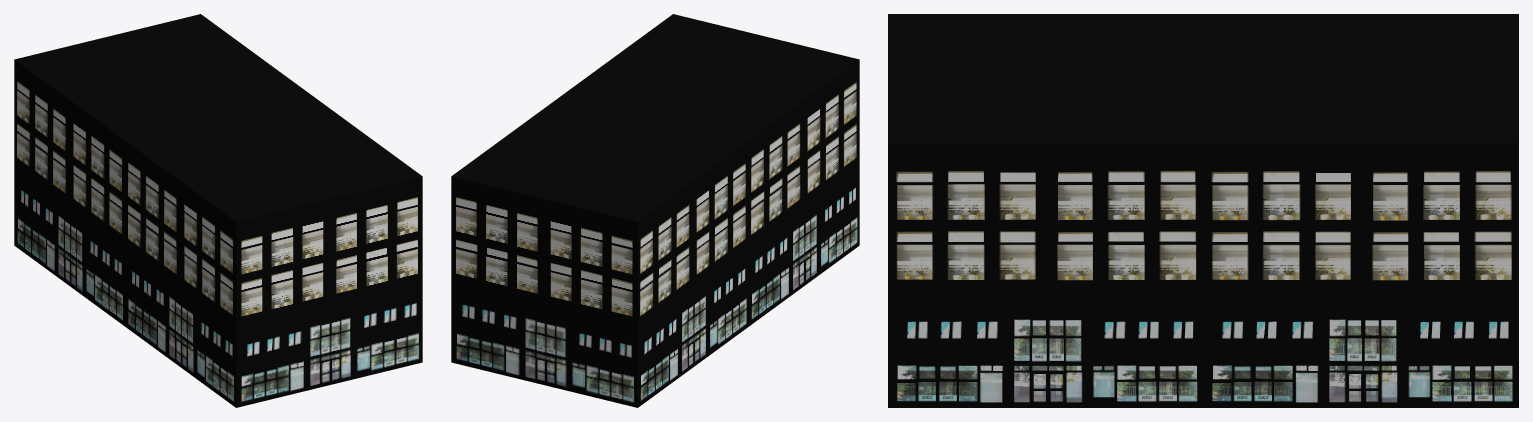
The model's file is building7.FBX.
3 views of the same model, side by side, from view 1: azimuth 30°, elevation 25°; view 2: azimuth 150°, elevation 25°; view 3: azimuth 270°, elevation 25° (orthographic). The views are drawn at different scales.
Visible parts, largest first — view 1: Box001; view 2: Box001; view 3: Box001.
Boxes of the visible parts, x1=… form: Box001: x1=14, y1=14, x2=422, y2=407; Box001: x1=451, y1=14, x2=859, y2=407; Box001: x1=888, y1=14, x2=1518, y2=407.
Bounding box in the file's own units: 55.93 × 53.37 × 115.
